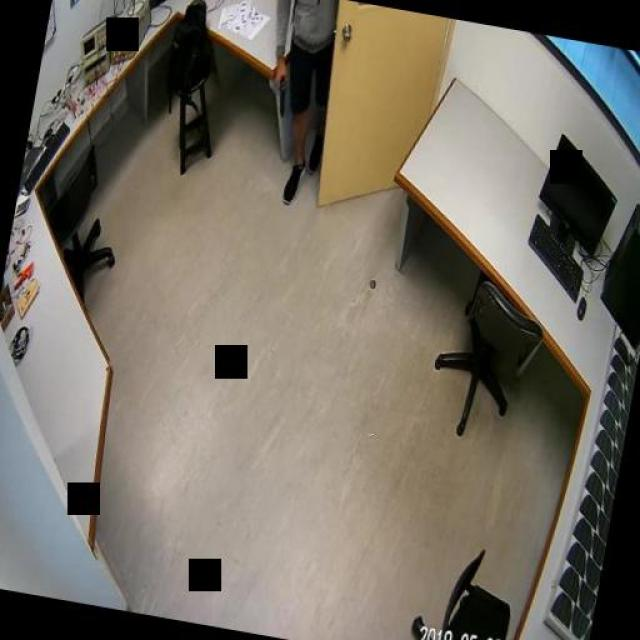gun: (269, 66, 290, 114)
